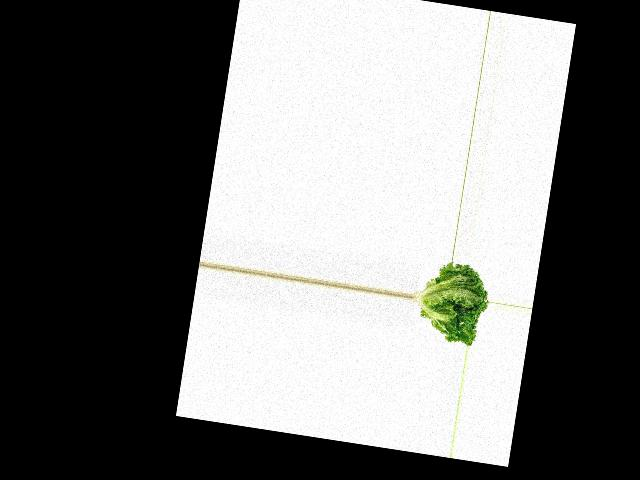lettuce: (406, 257, 492, 347)
